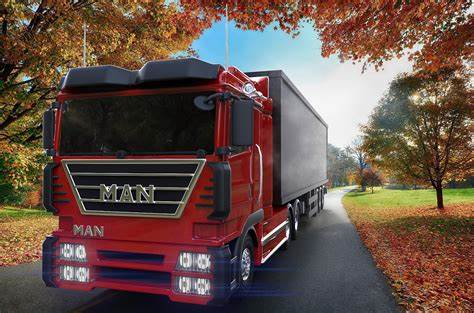卡车: (39, 45, 351, 300)
